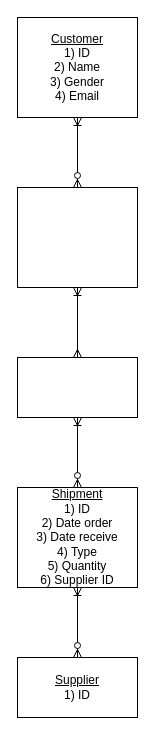
Some shapes in this 155 by 735 pixel diagram are drawn without their labels. Each missing label, with the centre of its shape:
Inventory 1) Type 2) Quantity: (77,387)
Purchase 1) ID 2) Date 3) Type 4) Quantity 5)Customer ID: (77,237)
